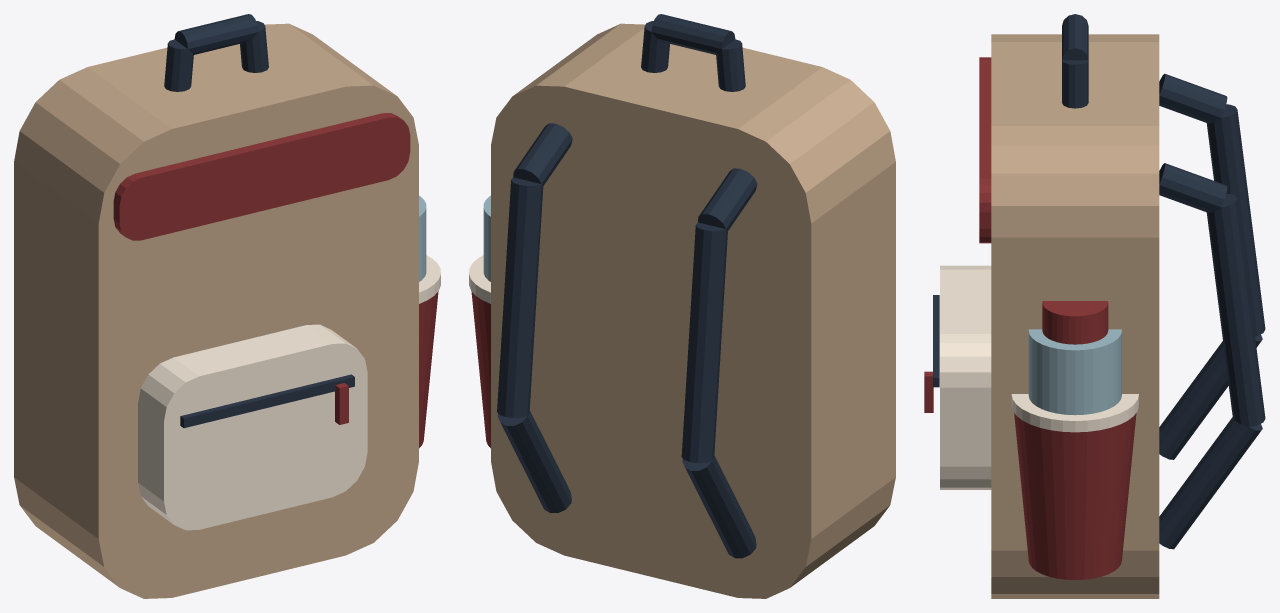
Rendered from backpack.glb.
The picture shows the model from 3 angles, left to right: view 1: azimuth 30°, elevation 25°; view 2: azimuth 150°, elevation 25°; view 3: azimuth 270°, elevation 25°; orthographic projection.
Parts seen in each view (by area): view 1: fabric shell, front pocket, lid binding, zip, carry loop1, side pocket, carry loop0, carry loop2, pocket rim, bottle neck, zip pull; view 2: fabric shell, strap -0.341, strap 0.341, strap -0.342, strap 0.342, carry loop1, strap -0.340, strap 0.340, side pocket, carry loop0, carry loop2, pocket rim (+1 smaller); view 3: fabric shell, side pocket, front pocket, strap 0.341, bottle neck, strap 0.342, strap -0.341, strap -0.342, cap, pocket rim, lid binding, strap -0.340 (+4 smaller).
Part boxes in pixels (<box>): fabric shell: <box>14,23,418,598</box>; front pocket: <box>138,324,367,530</box>; lid binding: <box>113,113,410,240</box>; zip: <box>180,374,354,428</box>; carry loop1: <box>174,14,258,54</box>; side pocket: <box>419,291,438,448</box>; carry loop0: <box>164,39,193,91</box>; carry loop2: <box>240,21,268,72</box>; pocket rim: <box>419,255,440,303</box>; bottle neck: <box>419,195,426,281</box>; zip pull: <box>335,383,348,424</box>; fabric shell: <box>491,23,895,598</box>; strap -0.341: <box>681,222,727,463</box>; strap 0.341: <box>497,177,543,417</box>; strap -0.342: <box>682,455,756,558</box>; strap 0.342: <box>497,410,571,512</box>; carry loop1: <box>651,14,735,54</box>; strap -0.340: <box>698,168,757,230</box>; strap 0.340: <box>513,123,572,185</box>; side pocket: <box>471,291,490,448</box>; carry loop0: <box>716,39,745,91</box>; carry loop2: <box>641,21,669,72</box>; pocket rim: <box>469,255,490,303</box>; fabric shell: <box>991,34,1159,598</box>; side pocket: <box>1014,413,1136,580</box>; front pocket: <box>940,265,991,489</box>; strap 0.341: <box>1206,194,1265,427</box>; bottle neck: <box>1028,329,1121,415</box>; strap 0.342: <box>1159,417,1262,549</box>; strap -0.341: <box>1206,104,1265,336</box>; strap -0.342: <box>1159,334,1262,459</box>; cap: <box>1042,301,1108,344</box>; pocket rim: <box>1011,394,1138,432</box>; lid binding: <box>979,57,991,243</box>; strap -0.340: <box>1159,73,1227,123</box>.
Size of the model in its own units: 1.38 by 1.84 by 1.1.
